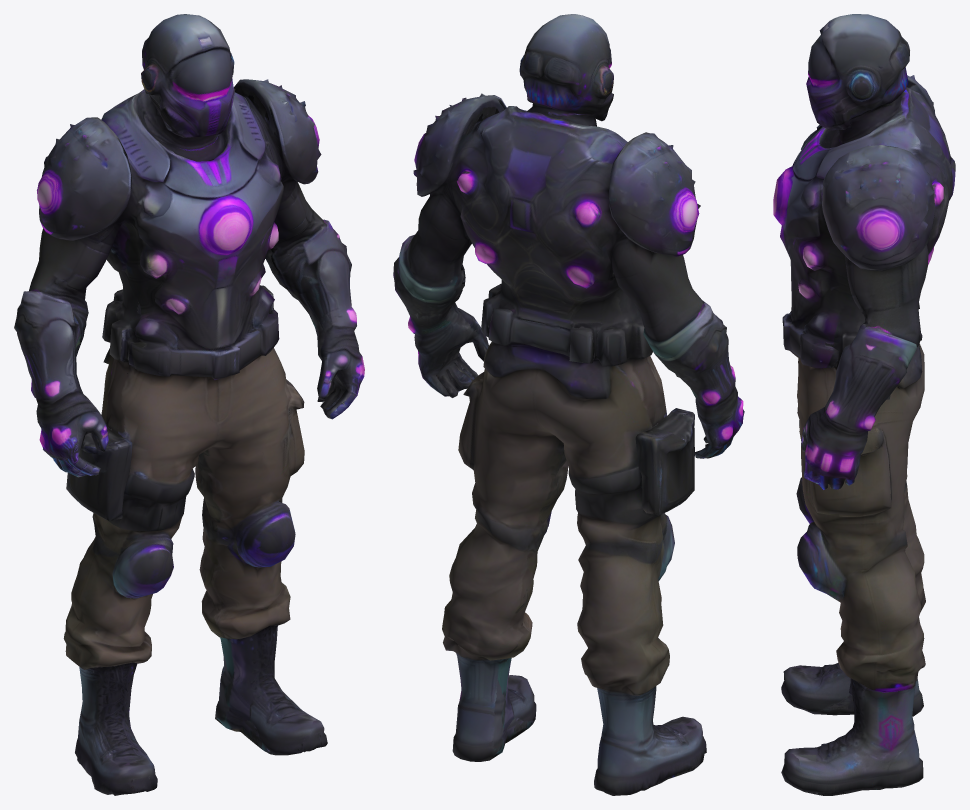
Rendered from bitcoin-behemoth.glb.
3 views of the same model, side by side, from view 1: azimuth 30°, elevation 25°; view 2: azimuth 150°, elevation 25°; view 3: azimuth 270°, elevation 25° (orthographic).
Bounding box in the file's own units: 0.9228 × 2 × 0.4546.
Materials: 1 (1 with a texture image).
